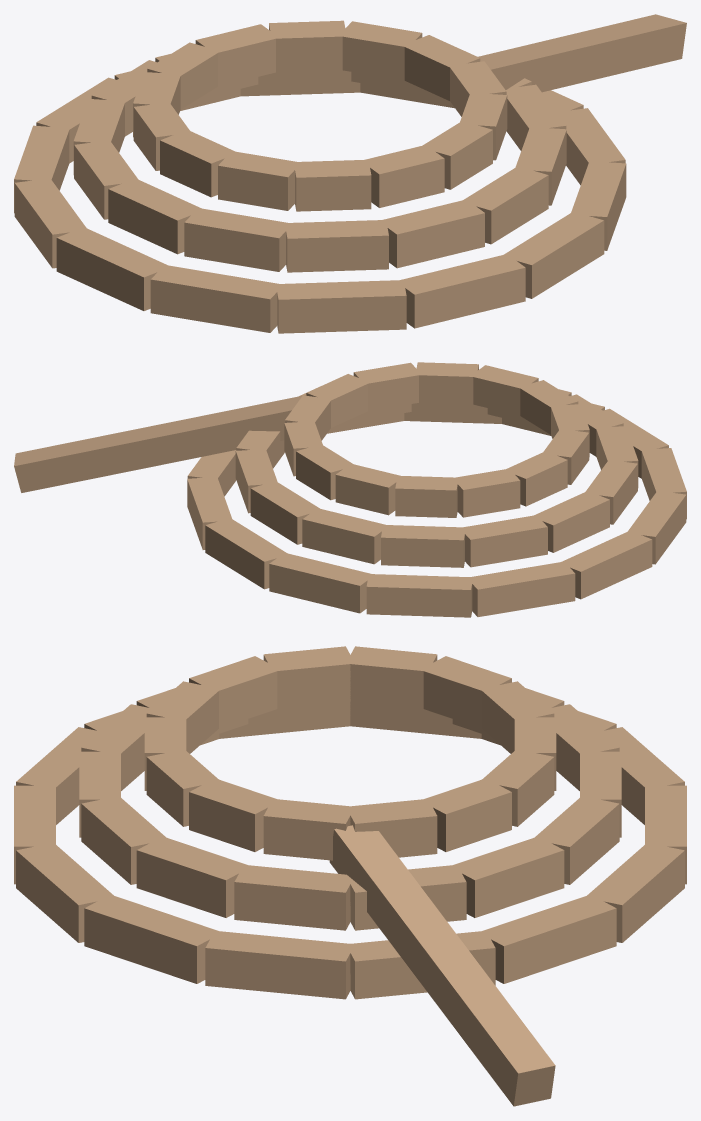
File: mooring-rope.glb
The picture shows the model from 3 angles, top to bottom: view 1: azimuth 30°, elevation 25°; view 2: azimuth 150°, elevation 25°; view 3: azimuth 270°, elevation 25°; orthographic projection. The views are drawn at different scales.
Parts seen in each view (by area): view 1: Loose rope end, Coiled mooring rope.009, Coiled mooring rope.008, Coiled mooring rope.010, Coiled mooring rope.007, Coiled mooring rope.023, Coiled mooring rope.022, Coiled mooring rope.024, Coiled mooring rope.011, Coiled mooring rope.021, Coiled mooring rope.036, Coiled mooring rope.037 (+30 smaller); view 2: Loose rope end, Coiled mooring rope.004, Coiled mooring rope.005, Coiled mooring rope.003, Coiled mooring rope.006, Coiled mooring rope.018, Coiled mooring rope.019, Coiled mooring rope.017, Coiled mooring rope.002, Coiled mooring rope.020, Coiled mooring rope.033, Coiled mooring rope.032 (+27 smaller); view 3: Loose rope end, Coiled mooring rope.013, Coiled mooring rope.001, Coiled mooring rope.012, Coiled mooring rope.027, Coiled mooring rope.026, Coiled mooring rope.015, Coiled mooring rope.011, Coiled mooring rope.002, Coiled mooring rope.040, Coiled mooring rope.034, Coiled mooring rope.035 (+27 smaller).
Boxes of the visible parts, x1=… form: Loose rope end: x1=478, y1=14, x2=686, y2=92; Coiled mooring rope.009: x1=276, y1=280, x2=406, y2=333; Coiled mooring rope.008: x1=150, y1=265, x2=281, y2=332; Coiled mooring rope.010: x1=397, y1=254, x2=525, y2=328; Coiled mooring rope.007: x1=56, y1=228, x2=170, y2=310; Coiled mooring rope.023: x1=285, y1=220, x2=388, y2=272; Coiled mooring rope.022: x1=184, y1=208, x2=292, y2=271; Coiled mooring rope.024: x1=379, y1=199, x2=484, y2=268; Coiled mooring rope.011: x1=502, y1=211, x2=604, y2=298; Coiled mooring rope.021: x1=108, y1=178, x2=201, y2=254; Coiled mooring rope.036: x1=218, y1=151, x2=300, y2=210; Coiled mooring rope.037: x1=293, y1=160, x2=371, y2=211; Loose rope end: x1=14, y1=395, x2=306, y2=492; Coiled mooring rope.004: x1=366, y1=574, x2=472, y2=617; Coiled mooring rope.005: x1=467, y1=561, x2=575, y2=616; Coiled mooring rope.003: x1=269, y1=553, x2=374, y2=613; Coiled mooring rope.006: x1=561, y1=531, x2=652, y2=599; Coiled mooring rope.018: x1=381, y1=525, x2=464, y2=567; Coiled mooring rope.019: x1=460, y1=515, x2=547, y2=567; Coiled mooring rope.017: x1=302, y1=508, x2=388, y2=564; Coiled mooring rope.002: x1=205, y1=518, x2=288, y2=589; Coiled mooring rope.020: x1=532, y1=492, x2=609, y2=552; Coiled mooring rope.033: x1=456, y1=468, x2=520, y2=517; Coiled mooring rope.032: x1=395, y1=475, x2=458, y2=517; Loose rope end: x1=329, y1=825, x2=555, y2=1106; Coiled mooring rope.013: x1=205, y1=931, x2=354, y2=999; Coiled mooring rope.001: x1=478, y1=894, x2=616, y2=983; Coiled mooring rope.012: x1=84, y1=896, x2=222, y2=983; Coiled mooring rope.027: x1=234, y1=865, x2=352, y2=930; Coiled mooring rope.026: x1=136, y1=836, x2=251, y2=917; Coiled mooring rope.015: x1=450, y1=836, x2=564, y2=917; Coiled mooring rope.011: x1=16, y1=842, x2=115, y2=942; Coiled mooring rope.002: x1=587, y1=842, x2=684, y2=942; Coiled mooring rope.040: x1=189, y1=778, x2=277, y2=851; Coiled mooring rope.034: x1=346, y1=646, x2=437, y2=708; Coiled mooring rope.035: x1=263, y1=646, x2=354, y2=708.
Size of the model in its own units: 1.64 by 0.2639 by 1.21.
